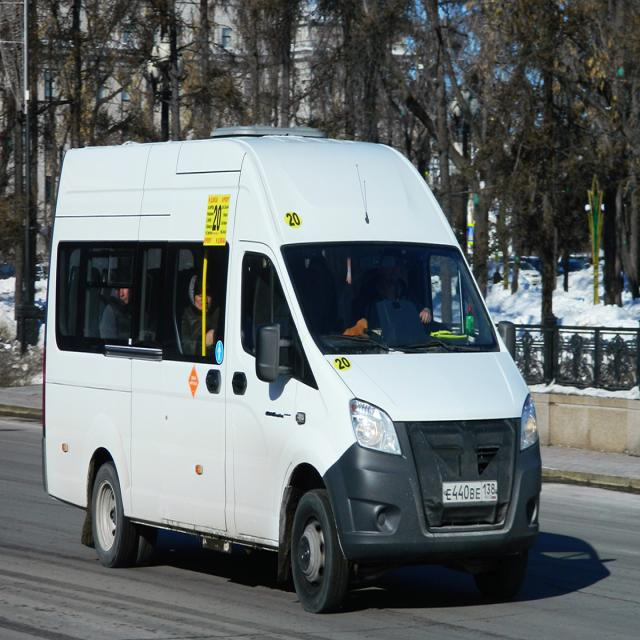number-of-bus: (335, 357, 355, 374), (287, 211, 303, 230), (212, 206, 223, 233)
